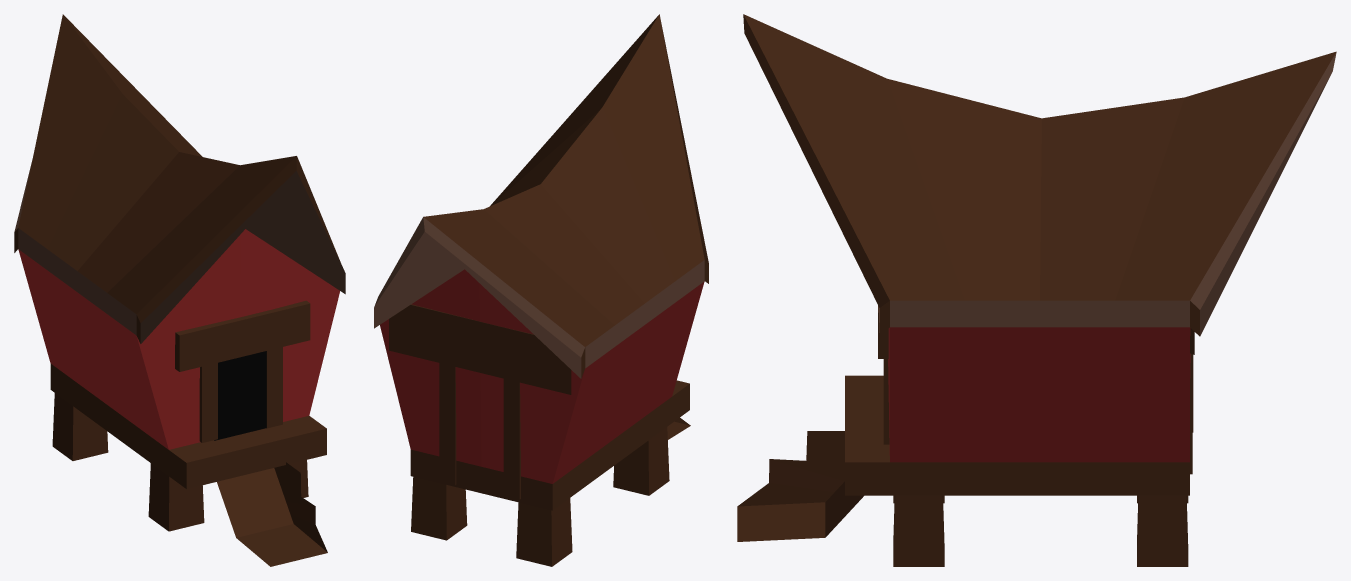
Rendered from RumahAdat.fbx.
3 renders of one model, left to right at view 1: azimuth 30°, elevation 25°; view 2: azimuth 150°, elevation 25°; view 3: azimuth 270°, elevation 25°, orthographic. The views are drawn at different scales.
Visible parts, largest first — view 1: Cube.001; view 2: Cube.001; view 3: Cube.001.
Boxes of the visible parts, <box> form: Cube.001: <box>14,14,345,566</box>; Cube.001: <box>374,14,708,566</box>; Cube.001: <box>737,14,1336,566</box>.
Size of the model in its own units: 200 by 375 by 400.
